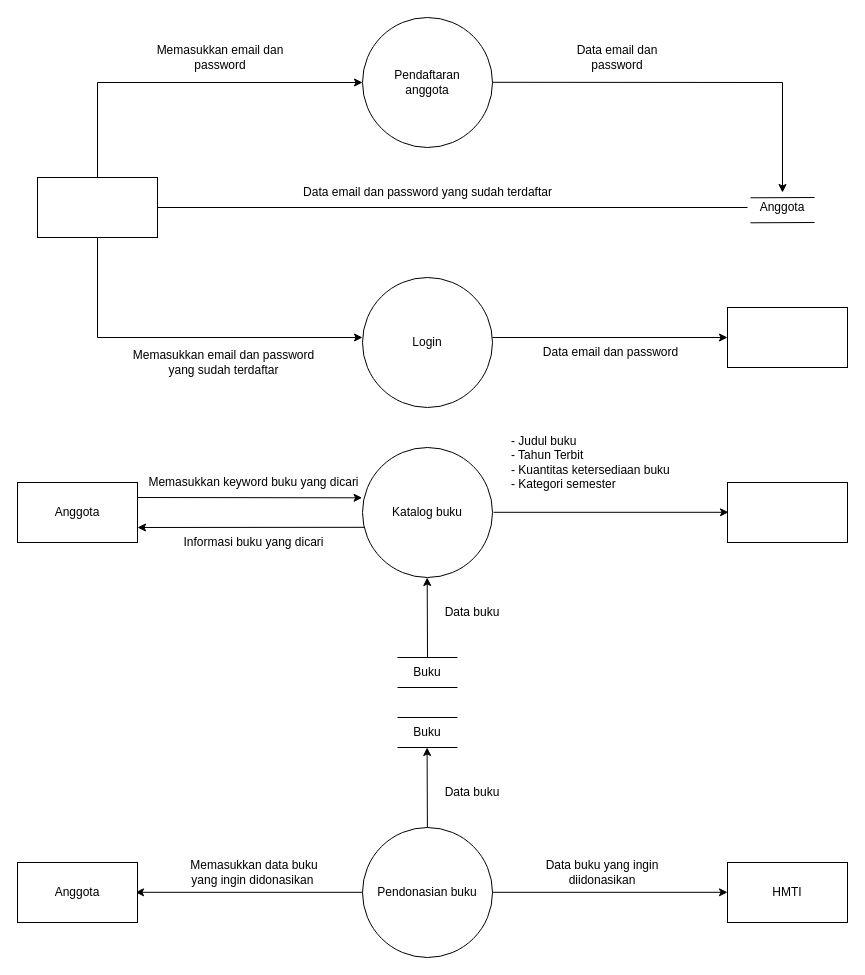
Image size: 865x975. Some labels were removed from this diagram. The shapes that lost their labels are listed below. From the top down, each one's centre as x and y in pixels, then its label:
the point at 97,207: Calon anggota
the point at 787,337: Akses fasilitas Bookuku
the point at 787,512: Informasi buku
